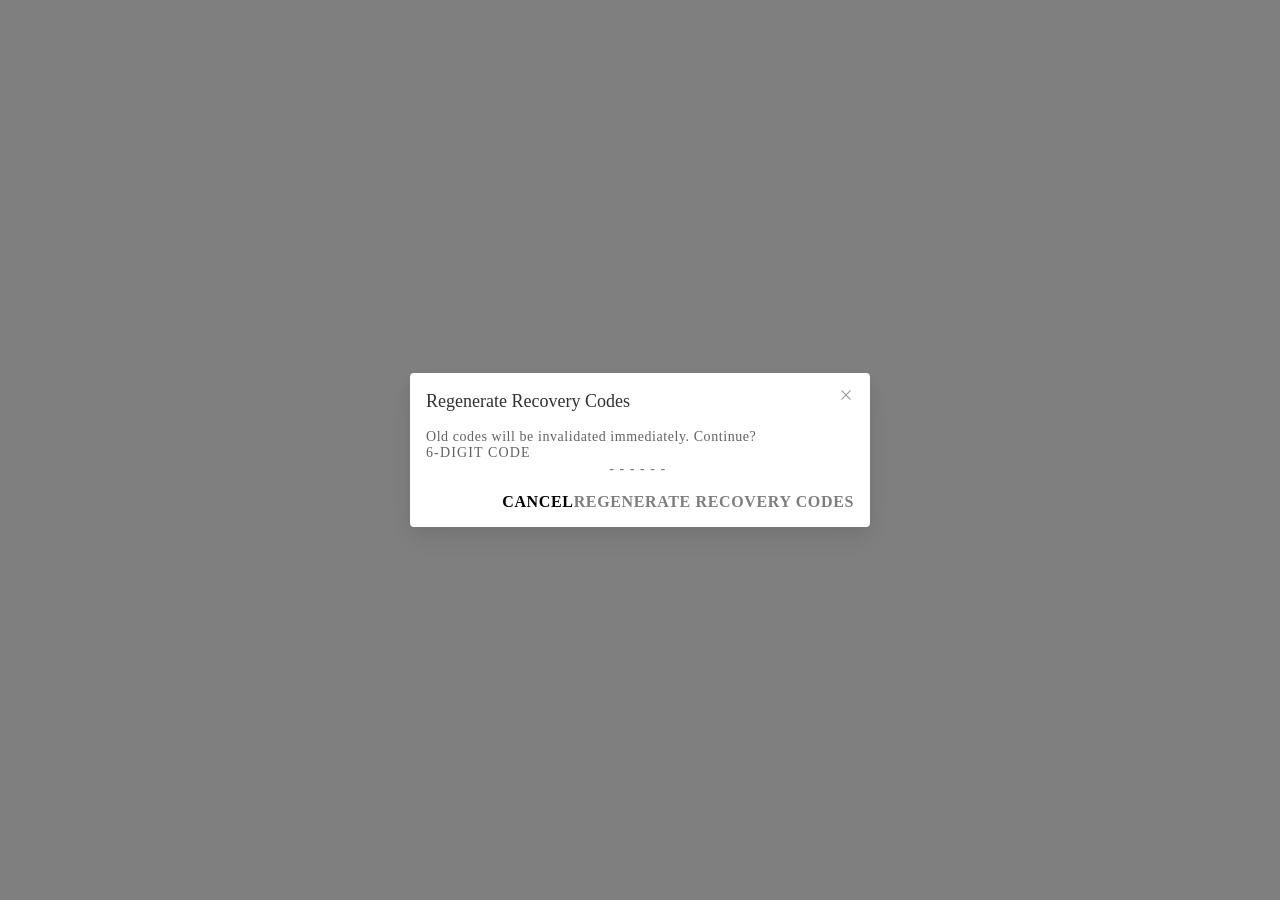
Test: MfaRecoveryRegenDialog (PC, P6) › submit happy → 调 regenerateRecoveryCodes 并展示 10 codes
Type "123456" into the field with test id "mfa-regen-code" at (640, 469), box [426, 461, 854, 477]
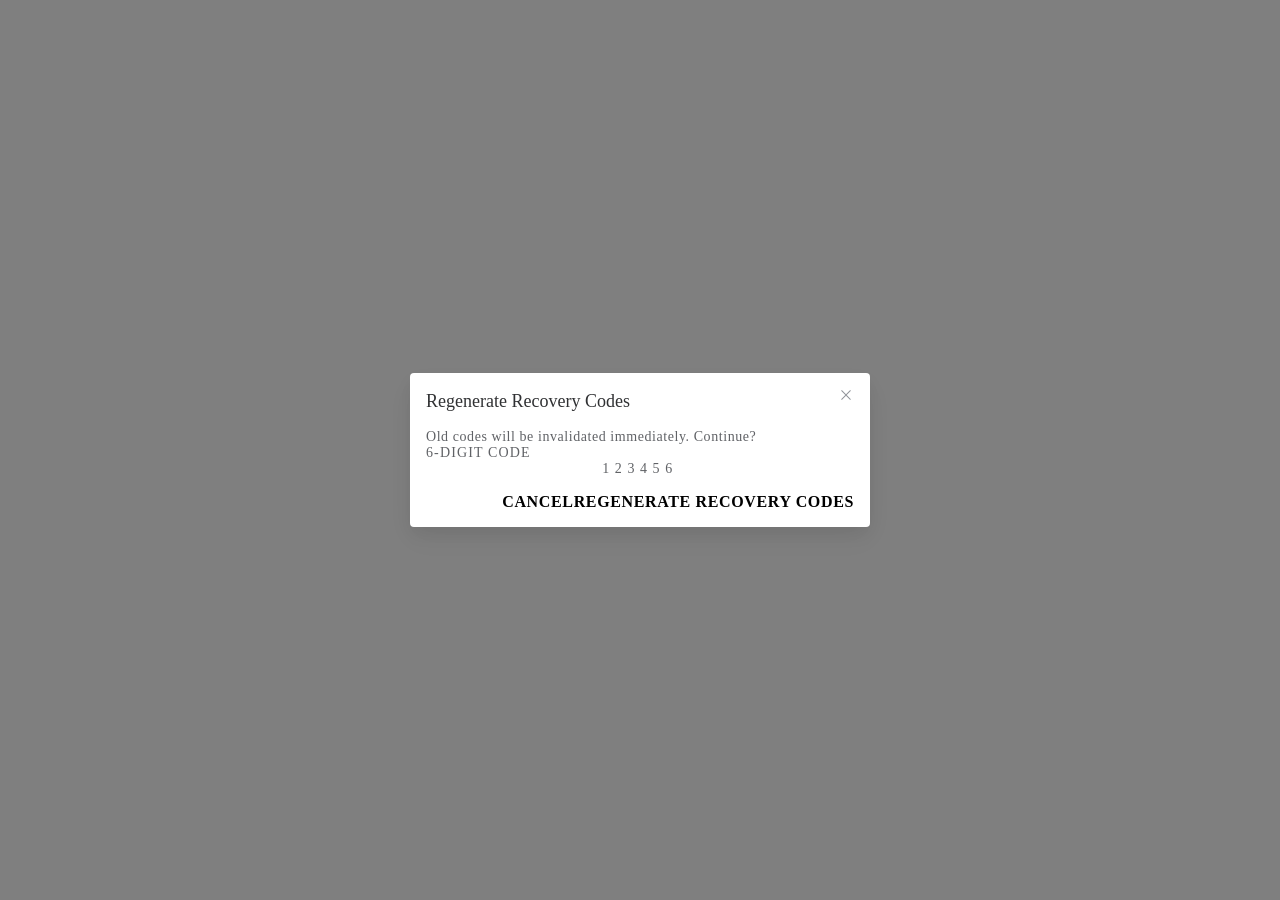
Click the button with test id "mfa-regen-submit" at (714, 502), box [574, 493, 854, 511]
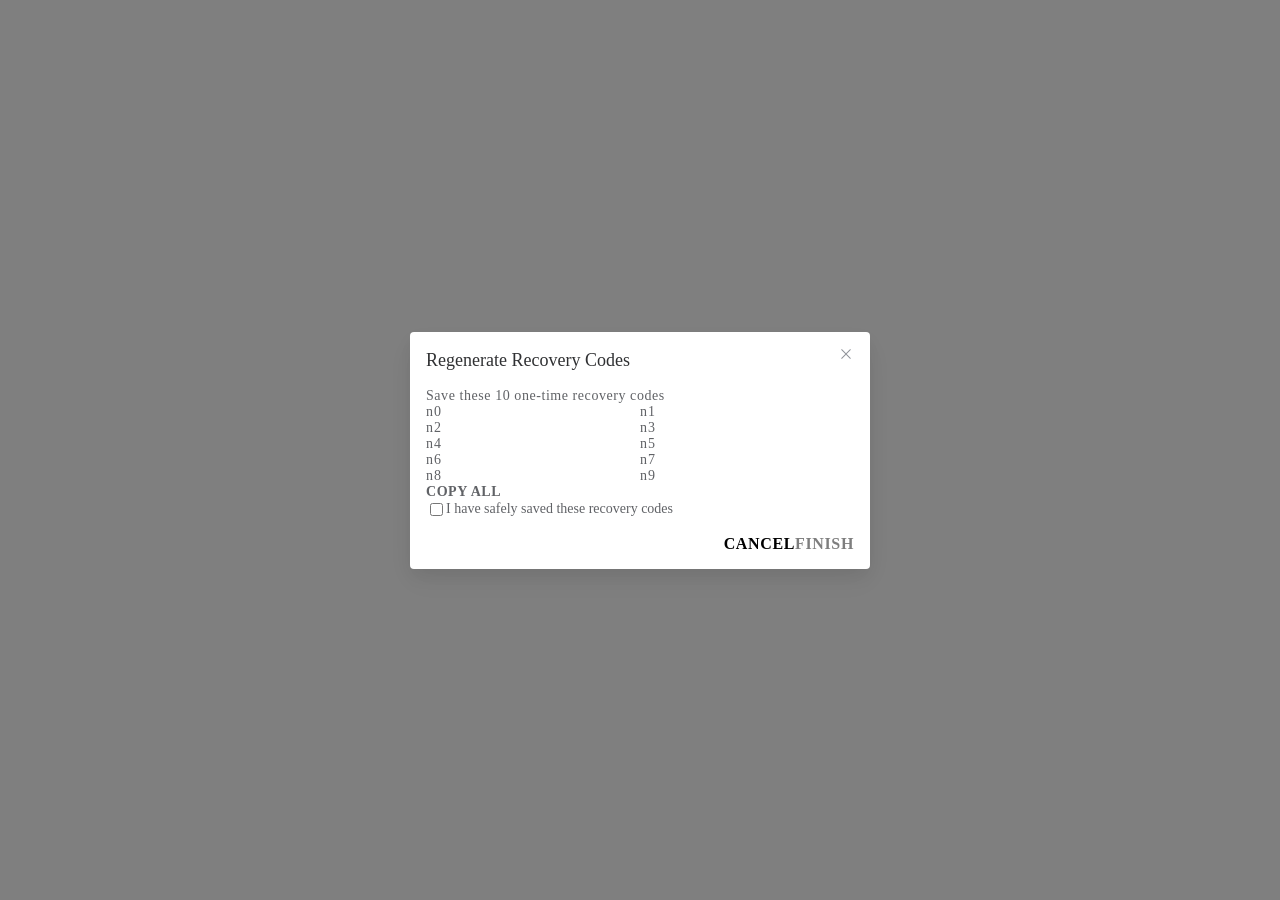
Now the text "n0" is shown, box [426, 404, 442, 418]
Now the text "n9" is shown, box [640, 468, 656, 482]
